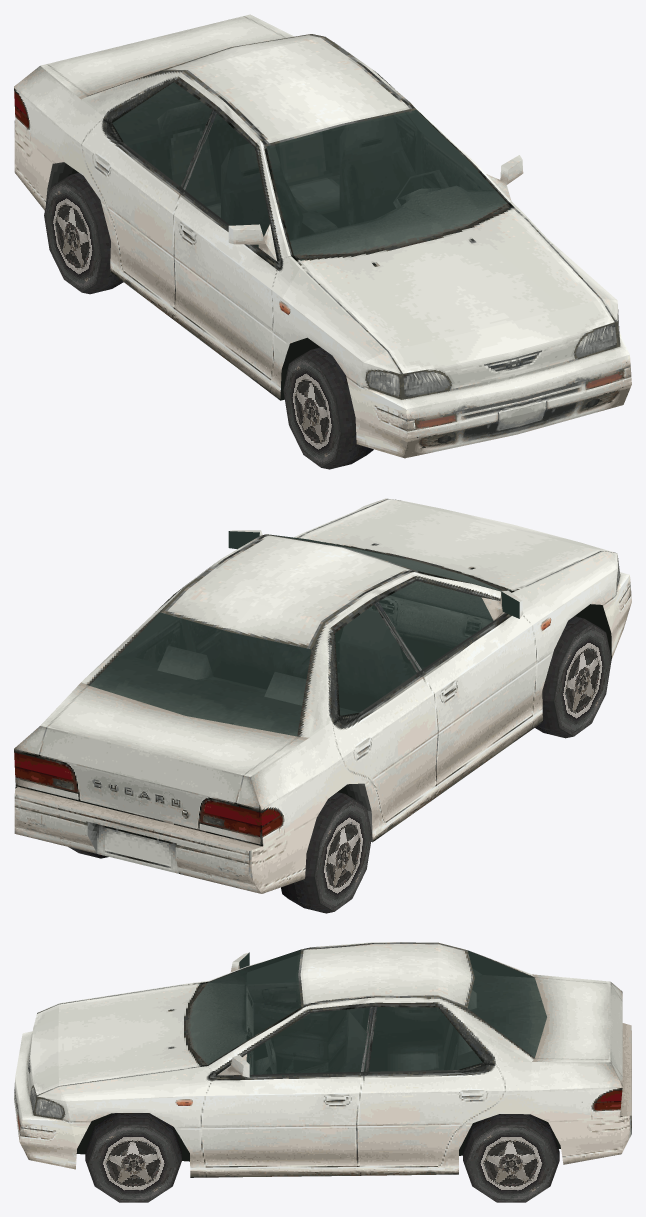
File: subaru_impreza.glb
The picture shows the model from 3 angles, top to bottom: view 1: azimuth 30°, elevation 25°; view 2: azimuth 150°, elevation 25°; view 3: azimuth 270°, elevation 25°; orthographic projection. The views are drawn at different scales.
Parts seen in each view (by area): view 1: SubaruImpreza, sub_imp_fr, sub_imp_rr; view 2: SubaruImpreza, sub_imp_rr, sub_imp_fr; view 3: SubaruImpreza, sub_imp_fl, sub_imp_rl.
Part boxes in pixels (left/top/right/bottom): SubaruImpreza: left=14, top=14, right=631, bottom=458; sub_imp_fr: left=283, top=347, right=373, bottom=469; sub_imp_rr: left=44, top=173, right=123, bottom=294; SubaruImpreza: left=14, top=498, right=631, bottom=893; sub_imp_rr: left=281, top=792, right=372, bottom=913; sub_imp_fr: left=535, top=616, right=611, bottom=738; SubaruImpreza: left=14, top=942, right=631, bottom=1177; sub_imp_fl: left=85, top=1113, right=181, bottom=1202; sub_imp_rl: left=463, top=1114, right=559, bottom=1202.
Size of the model in its own units: 4.93 by 3.87 by 11.49.
Materials: 2 (2 with a texture image).
